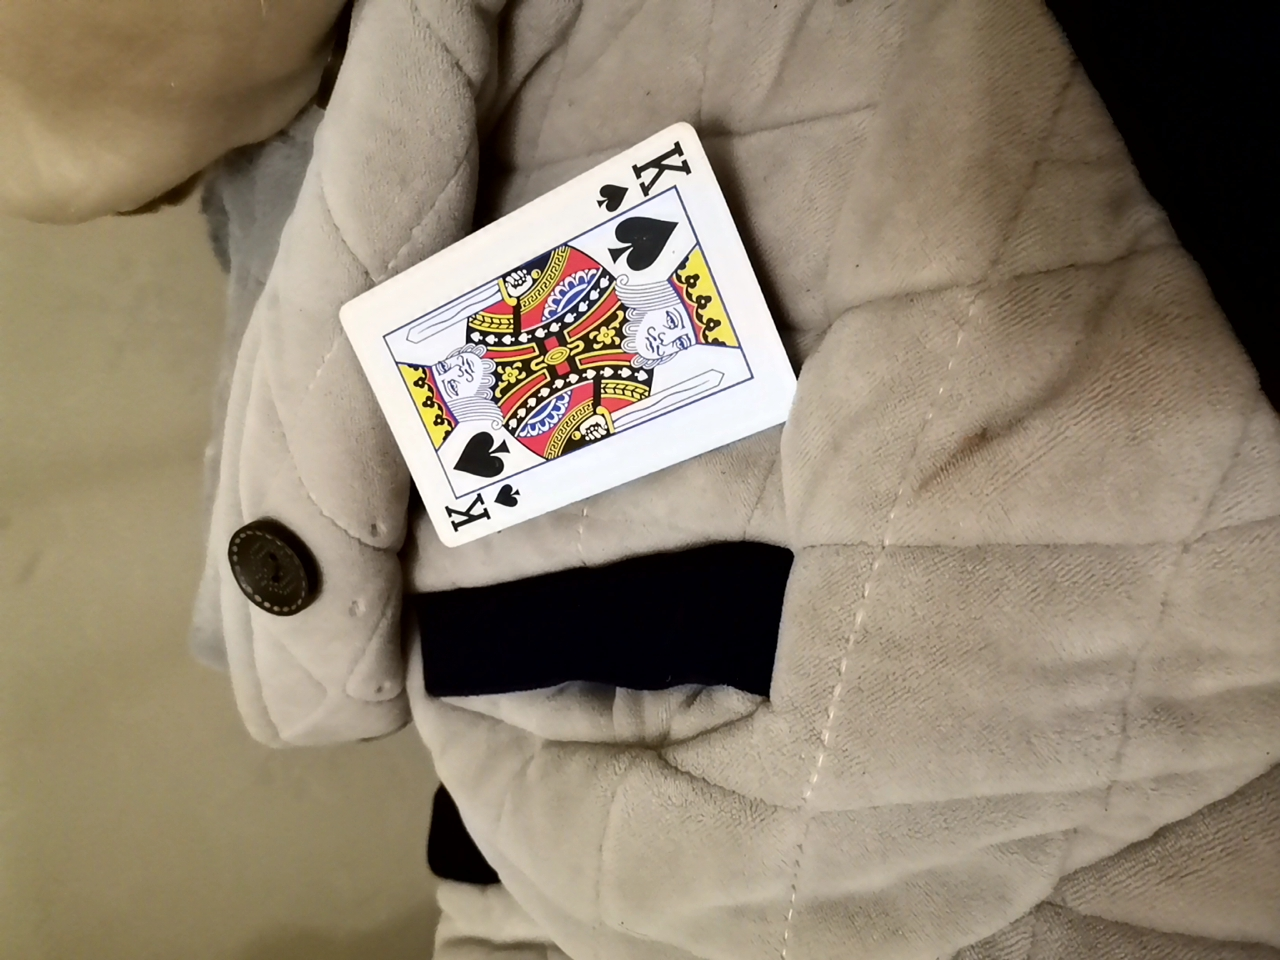ht k: (336, 131, 802, 551)
